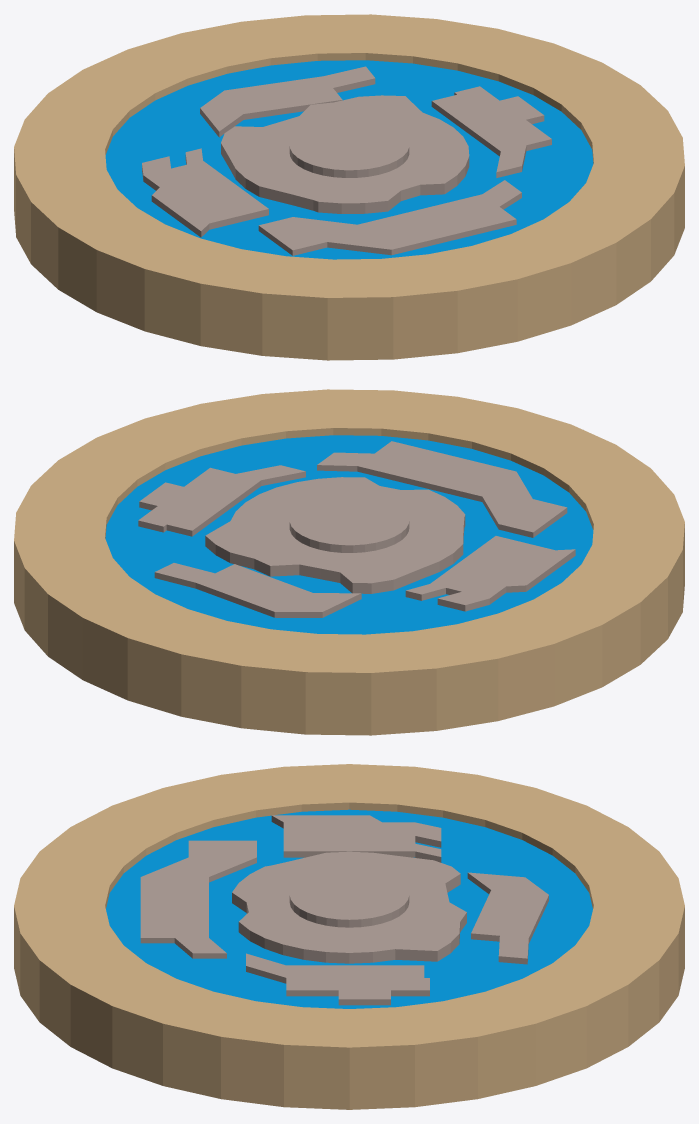
File: Steampunk city layout new.fbx
3 renders of one model, top to bottom at view 1: azimuth 30°, elevation 25°; view 2: azimuth 150°, elevation 25°; view 3: azimuth 270°, elevation 25°, orthographic.
Visible parts, largest first — view 1: Cylinder.004, Cylinder.005, Cylinder.006, Cube.004, Cube.005, Cylinder.007, Cube.007, Cube.006; view 2: Cylinder.004, Cylinder.005, Cylinder.006, Cube.004, Cube.005, Cylinder.007, Cube.007, Cube.006; view 3: Cylinder.004, Cylinder.005, Cylinder.006, Cube.004, Cube.005, Cube.007, Cylinder.007, Cube.006.
Part boxes in pixels (x1=…): Cylinder.004: x1=14, y1=14, x2=684, y2=360; Cylinder.005: x1=105, y1=60, x2=593, y2=259; Cylinder.006: x1=221, y1=95, x2=469, y2=213; Cube.004: x1=258, y1=180, x2=521, y2=255; Cube.005: x1=142, y1=148, x2=268, y2=237; Cylinder.007: x1=289, y1=119, x2=409, y2=177; Cube.007: x1=431, y1=86, x2=551, y2=177; Cube.006: x1=200, y1=66, x2=375, y2=137; Cylinder.004: x1=14, y1=389, x2=684, y2=735; Cylinder.005: x1=105, y1=435, x2=593, y2=634; Cylinder.006: x1=205, y1=477, x2=465, y2=593; Cube.004: x1=317, y1=441, x2=567, y2=537; Cube.005: x1=405, y1=536, x2=575, y2=611; Cylinder.007: x1=289, y1=494, x2=409, y2=552; Cube.007: x1=138, y1=465, x2=305, y2=536; Cube.006: x1=154, y1=563, x2=361, y2=617; Cylinder.004: x1=14, y1=764, x2=684, y2=1109; Cylinder.005: x1=106, y1=809, x2=592, y2=1008; Cylinder.006: x1=232, y1=851, x2=466, y2=963; Cube.004: x1=140, y1=840, x2=256, y2=958; Cube.005: x1=271, y1=815, x2=441, y2=862; Cube.007: x1=246, y1=953, x2=429, y2=1005; Cylinder.007: x1=289, y1=869, x2=409, y2=927; Cube.006: x1=467, y1=872, x2=548, y2=964.
Size of the model in its own units: 93184 by 12390 by 93184.
